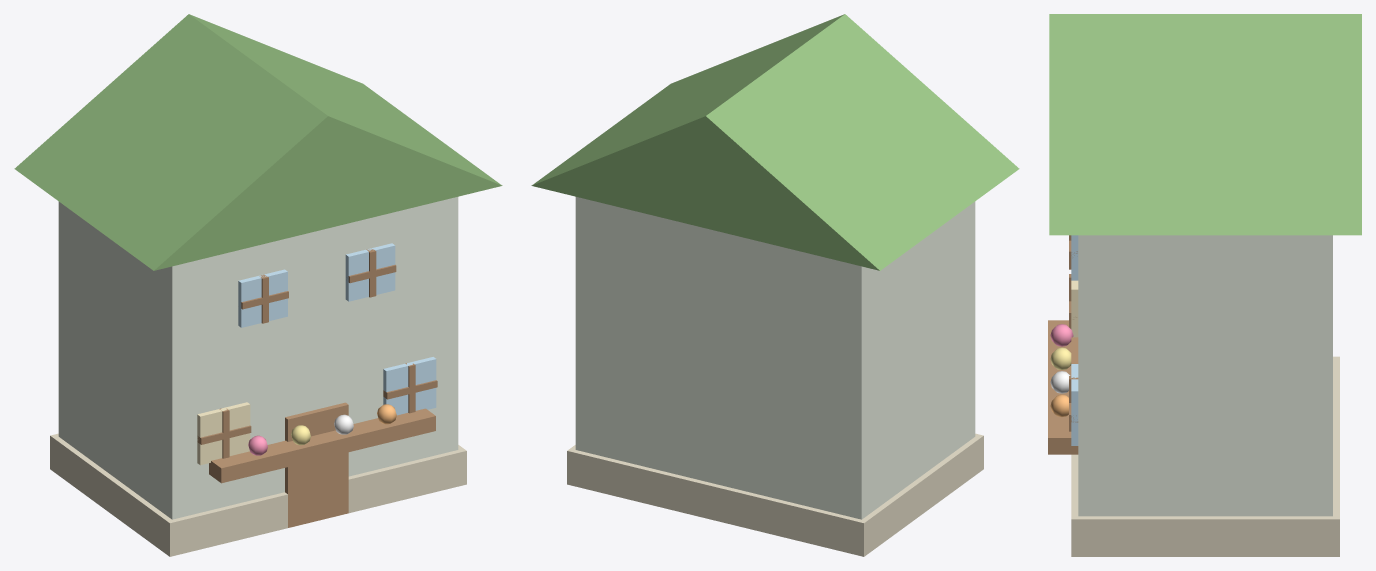
File: rumahw8.glb
The picture shows the model from 3 angles, left to right: view 1: azimuth 30°, elevation 25°; view 2: azimuth 150°, elevation 25°; view 3: azimuth 270°, elevation 25°; orthographic projection. The views are drawn at different scales.
Parts seen in each view (by area): view 1: rumahw8; view 2: rumahw8; view 3: rumahw8.
Part boxes in pixels (left/top/right/bottom): rumahw8: left=14, top=14, right=502, bottom=556; rumahw8: left=531, top=14, right=1019, bottom=556; rumahw8: left=1048, top=14, right=1361, bottom=556.
Bounding box in the file's own units: 1.95 × 2.2 × 1.36.
